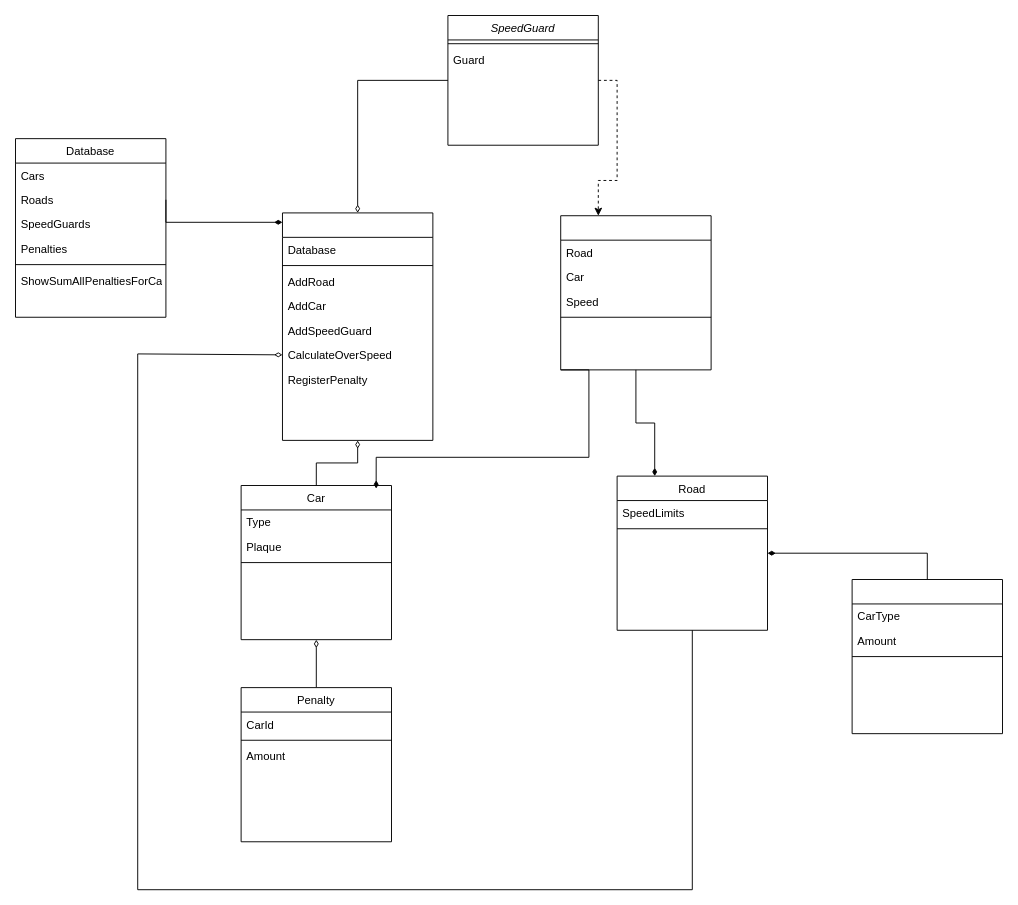
The diagram is 1018 pixels wide and 905 high, and some of its shapes have lost their labels. The box of each missing label's shape, as (x1, y1, x2, y2) in pixels:
Movement: (560, 215, 711, 370)
SpeedLimit: (851, 579, 1003, 734)
TraficPolice: (282, 212, 433, 440)
